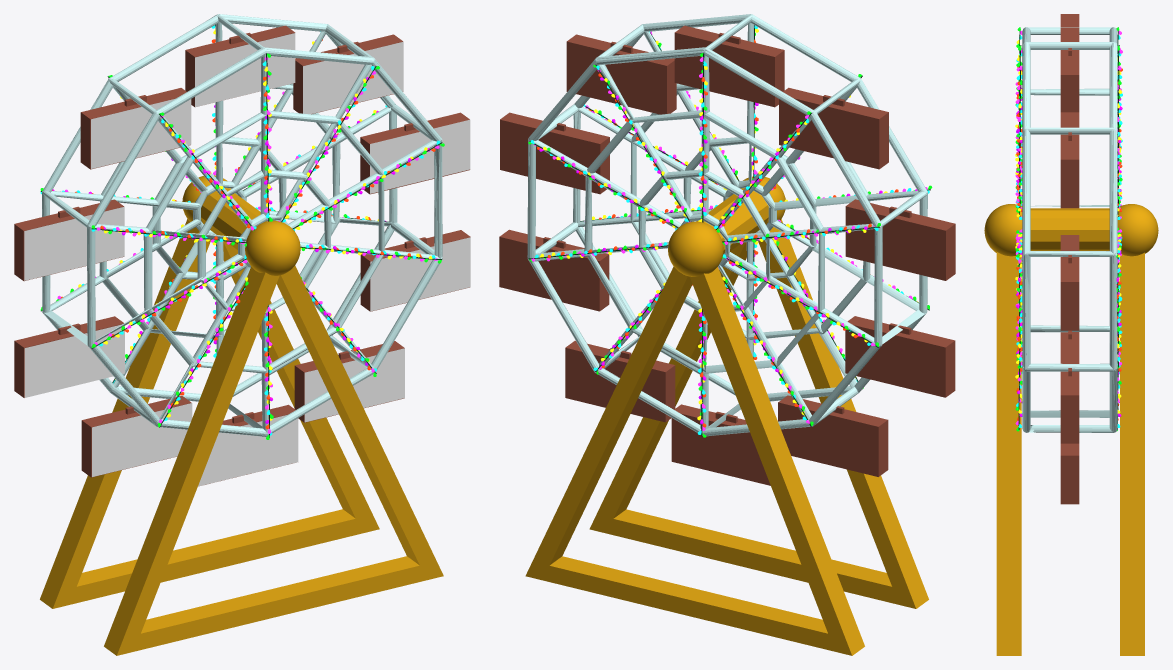
The model's file is ferris_final.glb.
3 renders of one model, left to right at view 1: azimuth 30°, elevation 25°; view 2: azimuth 150°, elevation 25°; view 3: azimuth 270°, elevation 25°, orthographic. The views are drawn at different scales.
Parts seen in each view (by area): view 1: c.002, Plane.011, Plane, Cylinder, Plane.004, Plane.003, Plane.005, Plane.010, Plane.006, Plane.008, Plane.007, Plane.009 (+13 smaller); view 2: c.002, Plane, Plane.011, Cylinder, Cube.005, Cube.004, Cube.003, Cube.006, Cube.007, Cube.008, Cube.010, Cube.009 (+4 smaller); view 3: c.002, Plane, Plane.011, Cylinder, Cylinder.001, Cube.009, Cube.008, Cube.010, Sphere.001, Cube.007, Sphere, Cube.002 (+2 smaller).
Part boxes in pixels (left/top/right/bottom): c.002: left=42, top=14, right=442, bottom=436; Plane.011: left=104, top=265, right=443, bottom=655; Plane: left=40, top=219, right=379, bottom=608; Cylinder: left=40, top=25, right=444, bottom=439; Plane.004: left=24, top=324, right=124, bottom=397; Plane.003: left=92, top=403, right=192, bottom=476; Plane.005: left=24, top=206, right=124, bottom=280; Plane.010: left=370, top=237, right=470, bottom=311; Plane.006: left=91, top=99, right=191, bottom=168; Plane.008: left=303, top=41, right=403, bottom=114; Plane.007: left=195, top=33, right=295, bottom=107; Plane.009: left=370, top=119, right=470, bottom=193; c.002: left=527, top=14, right=927, bottom=436; Plane: left=525, top=266, right=864, bottom=655; Plane.011: left=589, top=219, right=928, bottom=608; Cylinder: left=528, top=25, right=932, bottom=437; Cube.005: left=845, top=199, right=955, bottom=280; Cube.004: left=845, top=316, right=955, bottom=397; Cube.003: left=778, top=395, right=888, bottom=476; Cube.006: left=779, top=87, right=888, bottom=169; Cube.007: left=674, top=25, right=784, bottom=107; Cube.008: left=566, top=34, right=676, bottom=114; Cube.010: left=499, top=229, right=609, bottom=311; Cube.009: left=500, top=112, right=609, bottom=194; c.002: left=1022, top=27, right=1117, bottom=432; Plane: left=1120, top=252, right=1144, bottom=655; Plane.011: left=996, top=252, right=1021, bottom=655; Cylinder: left=1015, top=27, right=1122, bottom=431; Cylinder.001: left=1030, top=208, right=1109, bottom=250; Cube.009: left=1060, top=235, right=1079, bottom=330; Cube.008: left=1060, top=112, right=1079, bottom=207; Cube.010: left=1060, top=348, right=1079, bottom=443; Sphere.001: left=1117, top=204, right=1158, bottom=256; Cube.007: left=1060, top=27, right=1079, bottom=112; Sphere: left=984, top=204, right=1022, bottom=256; Cube.002: left=1060, top=443, right=1079, bottom=504.
Size of the model in its own units: 2.45 by 2.92 by 0.8585.
Materials: 5 (1 with a texture image).
